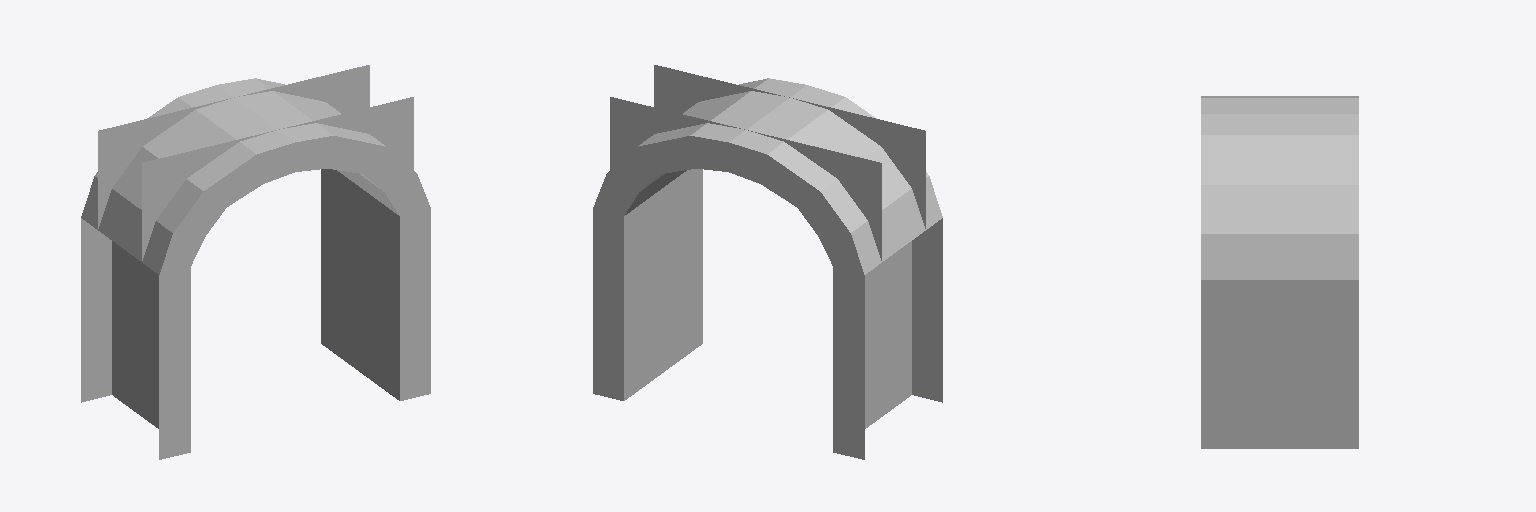
File: arch.obj
The picture shows the model from 3 angles: view 1: azimuth 30°, elevation 25°; view 2: azimuth 150°, elevation 25°; view 3: azimuth 270°, elevation 25°; orthographic projection.
Parts seen in each view (by area): view 1: Cube.001; view 2: Cube.001; view 3: Cube.001.
Part boxes in pixels (x1,y1,x2,y2): Cube.001: (81, 65, 430, 459); Cube.001: (593, 65, 942, 459); Cube.001: (1201, 96, 1358, 448).
Size of the model in its own units: 2 by 2 by 1.